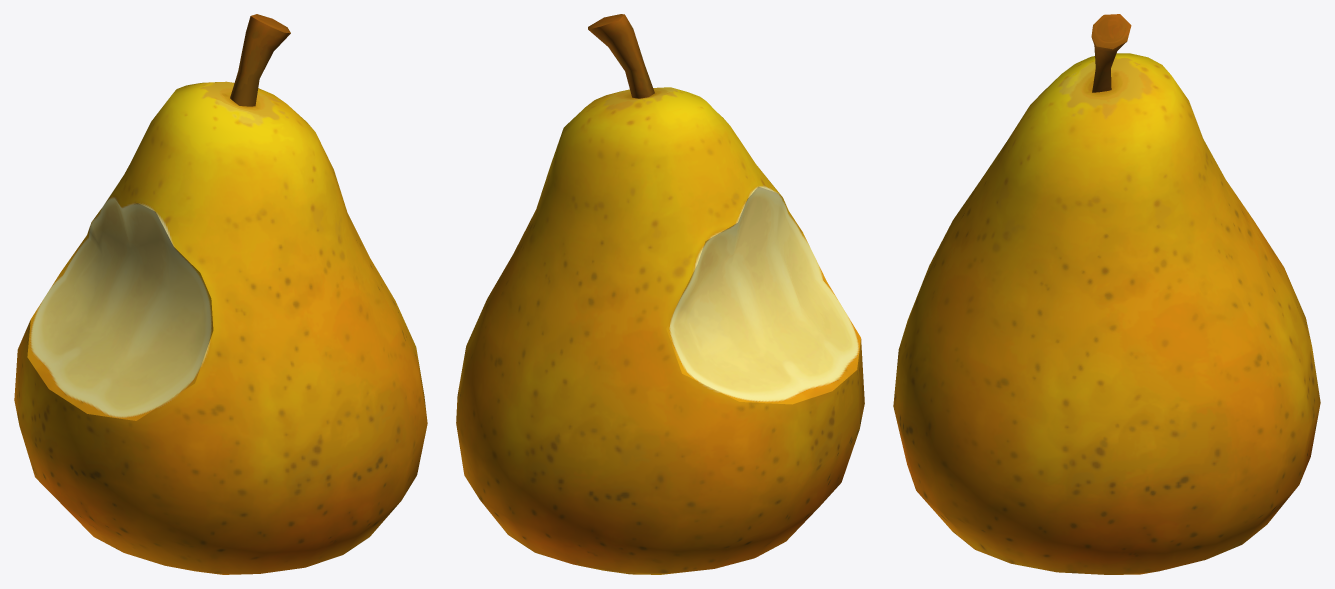
The model's file is SM_PearYellowBite.fbx.
3 views of the same model, side by side, from view 1: azimuth 30°, elevation 25°; view 2: azimuth 150°, elevation 25°; view 3: azimuth 270°, elevation 25° (orthographic). The views are drawn at different scales.
Visible parts, largest first — view 1: SM_PearYellowBite; view 2: SM_PearYellowBite; view 3: SM_PearYellowBite.
Boxes of the visible parts, x1,y1,x2,y2 form: SM_PearYellowBite: (14, 14, 427, 574); SM_PearYellowBite: (456, 14, 864, 574); SM_PearYellowBite: (893, 14, 1320, 574).
Size of the model in its own units: 13.47 by 18.63 by 13.34.
